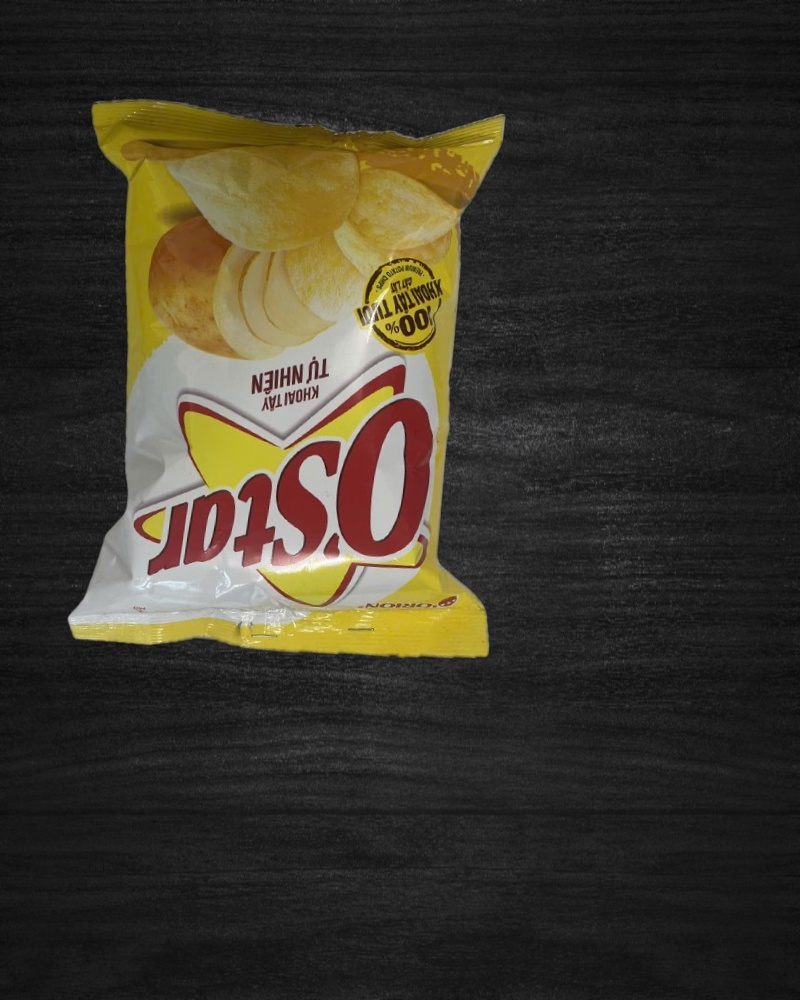Snack cua: (51, 85, 534, 669)
